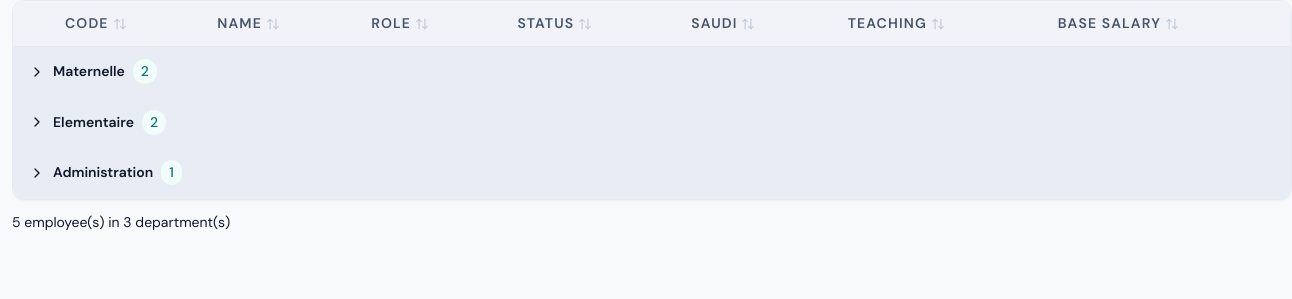
Test: EmployeeGrid department grouping › shows employee data when department is expanded
# Expand Administration department
Click the text "Administration".
click(103, 172)  # box [53,162,153,183]
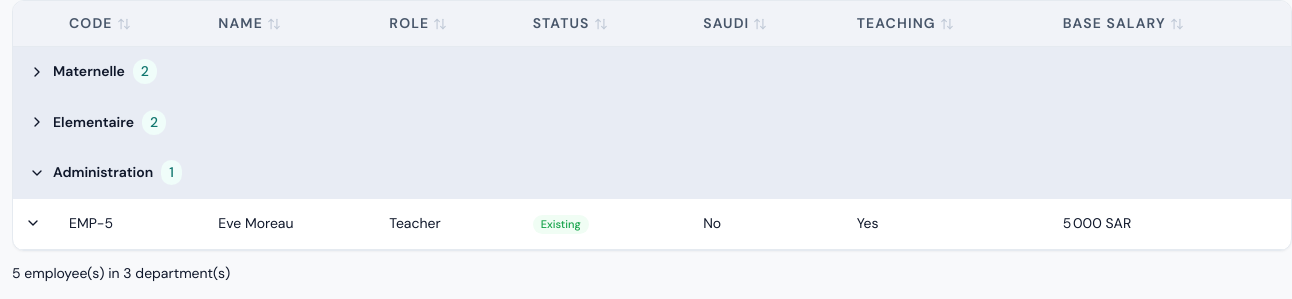
Expected: the text "Eve Moreau" is shown, [202,198,373,249]
Expected: the text "EMP-5" is shown, [53,198,202,249]
